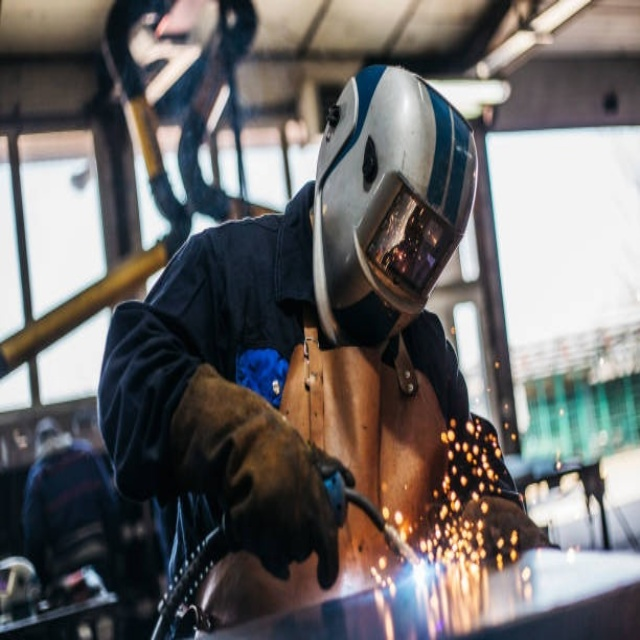Guantes: (169, 365, 361, 601)
Sin_guantes: (153, 0, 212, 43)
